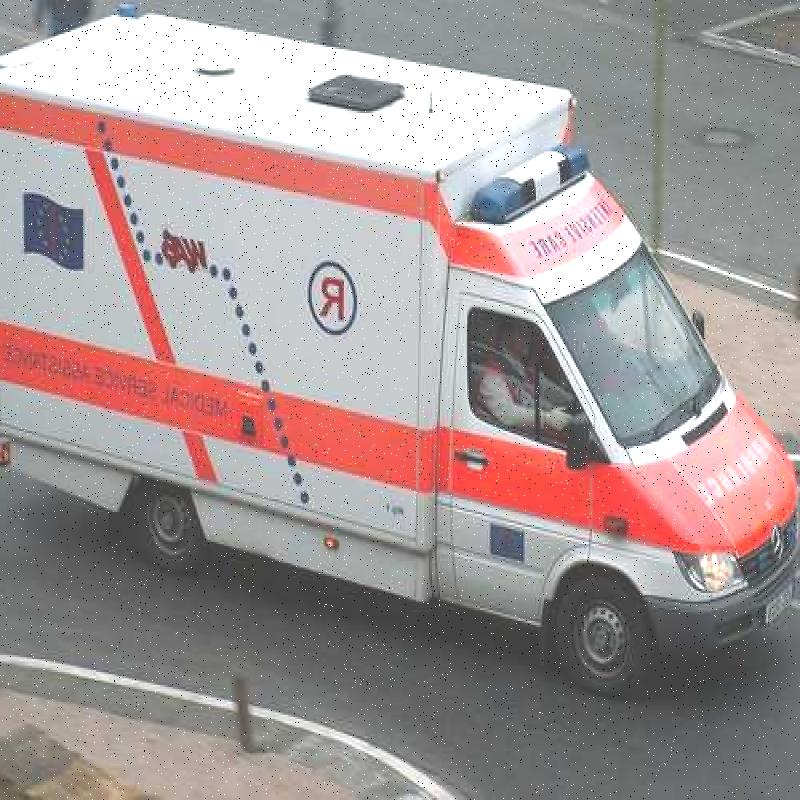AmbulanceSiren: (474, 114, 613, 261)
